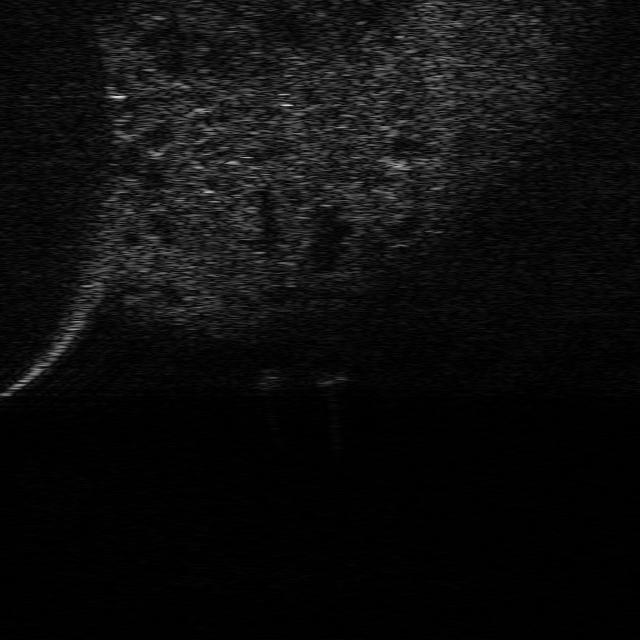cube: (308, 366, 352, 388)
cylinder: (255, 365, 277, 391)
